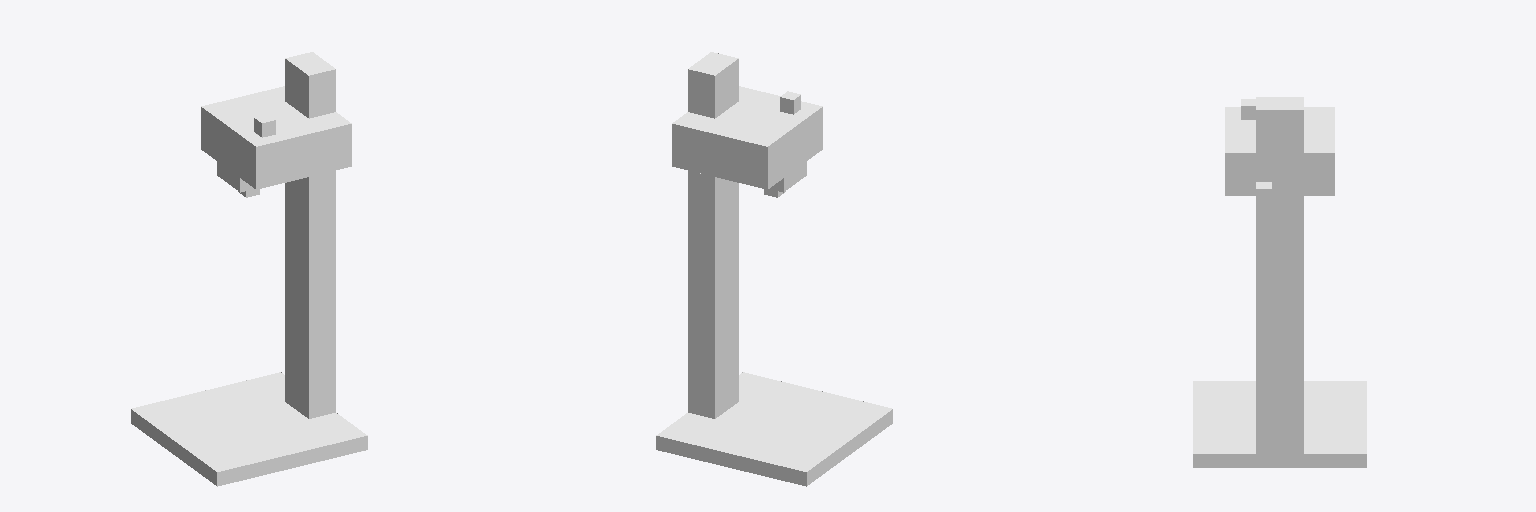
Rendered from Photo_Enlarger.obj.
3 renders of one model, left to right at view 1: azimuth 30°, elevation 25°; view 2: azimuth 150°, elevation 25°; view 3: azimuth 270°, elevation 25°, orthographic.
Visible parts, largest first — view 1: Default; view 2: Default; view 3: Default.
Part boxes in pixels (x1,y1,x2,y2): Default: (131,52,367,486); Default: (656,52,892,486); Default: (1193,97,1366,467).
Bounding box in the file's own units: 1.5 × 3.12 × 1.38.